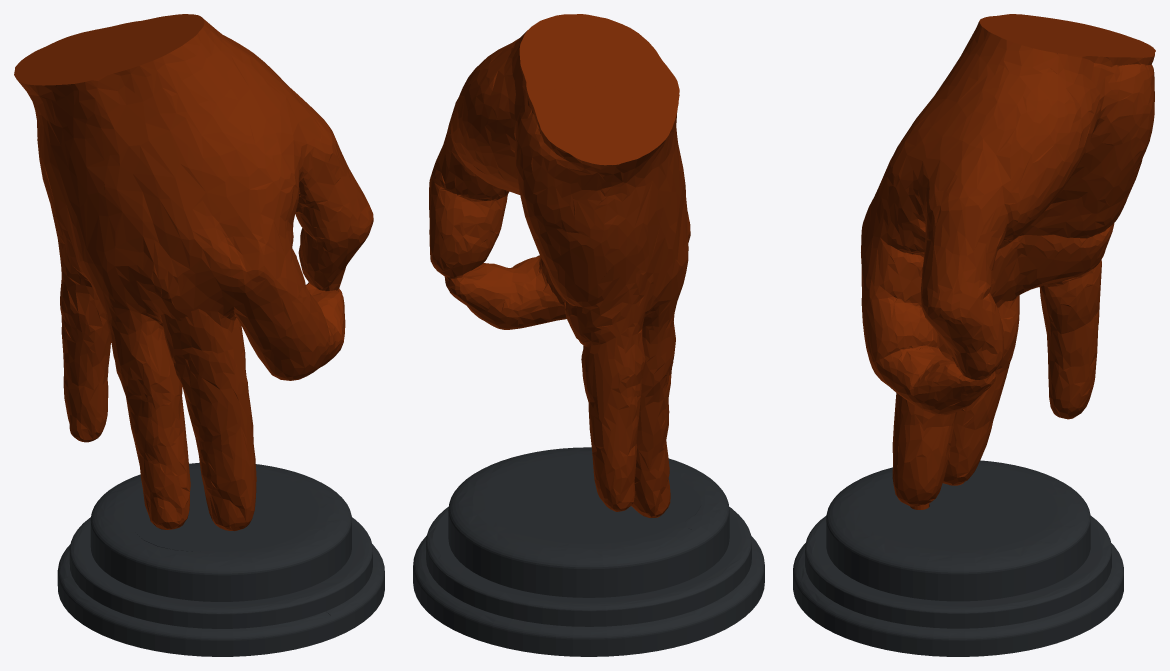
Rendered from hand.glb.
3 views of the same model, side by side, from view 1: azimuth 30°, elevation 25°; view 2: azimuth 150°, elevation 25°; view 3: azimuth 270°, elevation 25° (orthographic). The views are drawn at different scales.
Parts seen in each view (by area): view 1: group_0_12568524, group_0_2829873; view 2: group_0_12568524, group_0_2829873; view 3: group_0_12568524, group_0_2829873.
Boxes of the visible parts, x1,y1,x2,y2 form: group_0_12568524: (14,14,373,531); group_0_2829873: (57,462,384,656); group_0_12568524: (429,14,690,517); group_0_2829873: (413,447,764,656); group_0_12568524: (861,14,1155,509); group_0_2829873: (793,460,1123,656).
Bounding box in the file's own units: 0.0508 × 0.0917 × 0.0548.
